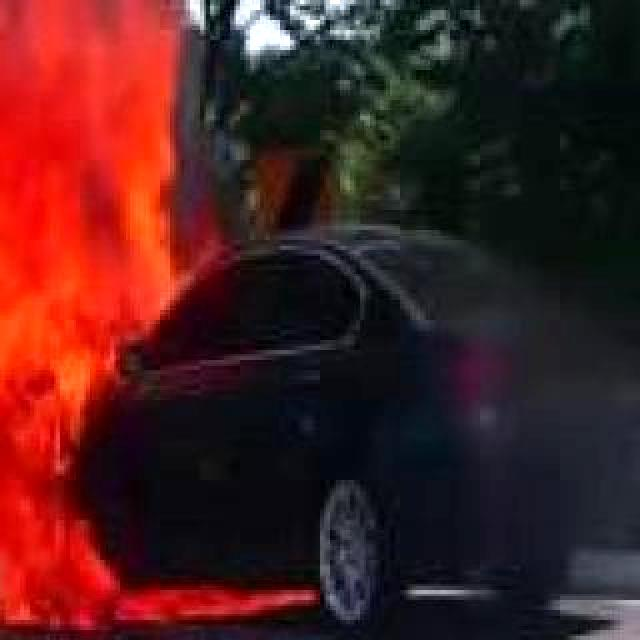fire: (0, 0, 192, 634)
